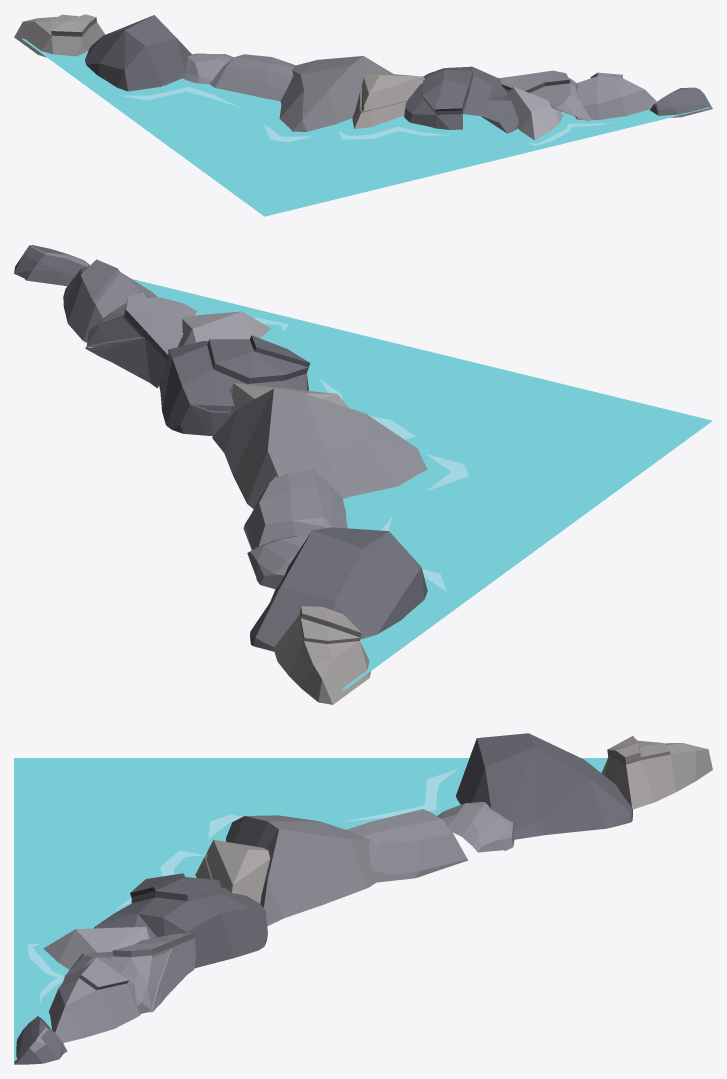
The model's file is WaterPatchCurve_01.glb.
3 views of the same model, one above another, from view 1: azimuth 30°, elevation 25°; view 2: azimuth 150°, elevation 25°; view 3: azimuth 270°, elevation 25° (orthographic). The views are drawn at different scales.
Parts seen in each view (by area): view 1: WaterPatchCurve_01; view 2: WaterPatchCurve_01; view 3: WaterPatchCurve_01.
Boxes of the visible parts, bbox=[...] form: WaterPatchCurve_01: bbox=[14, 14, 712, 216]; WaterPatchCurve_01: bbox=[14, 245, 712, 704]; WaterPatchCurve_01: bbox=[14, 733, 712, 1064].
Size of what is drawn, in the model's own units: 6.57 by 0.7244 by 6.36.
Materials: 1 (1 with a texture image).
